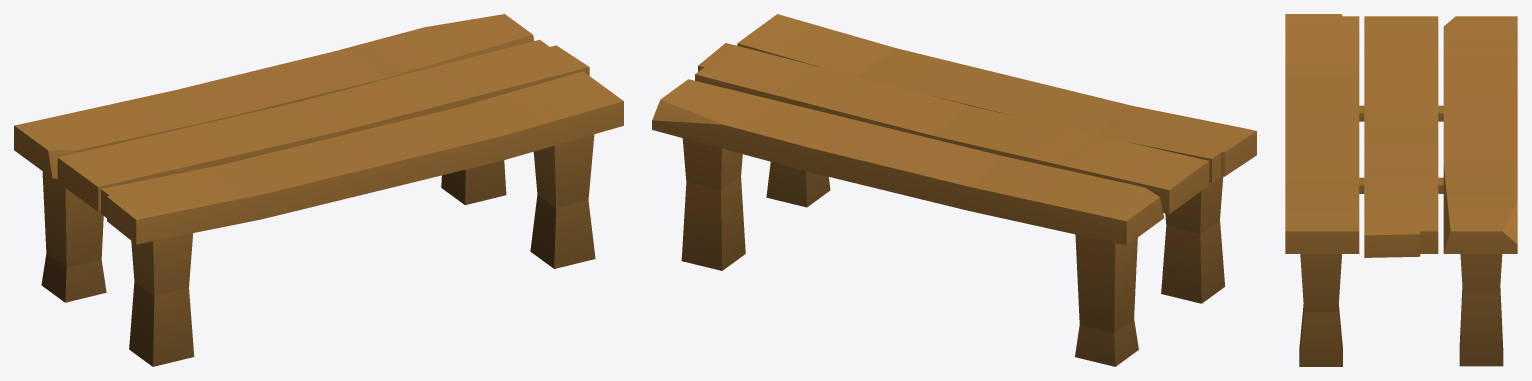
Rendered from Table001.fbx.
3 views of the same model, side by side, from view 1: azimuth 30°, elevation 25°; view 2: azimuth 150°, elevation 25°; view 3: azimuth 270°, elevation 25° (orthographic). The views are drawn at different scales.
Visible parts, largest first — view 1: Table; view 2: Table; view 3: Table.
Part boxes in pixels (bbox=[...]): Table: bbox=[14, 14, 623, 366]; Table: bbox=[652, 14, 1256, 366]; Table: bbox=[1285, 14, 1517, 366].
Bounding box in the file's own units: 320 × 97.9 × 142.
